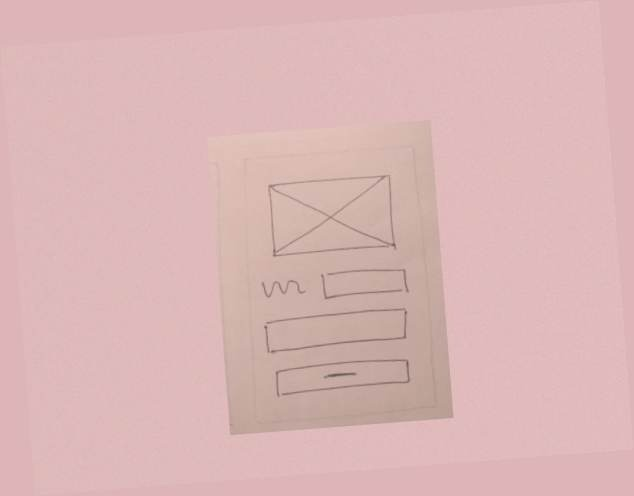button: (267, 354, 415, 401)
image: (260, 168, 403, 265)
text: (257, 272, 309, 302)
text_input: (258, 305, 414, 357), (317, 261, 416, 306)
